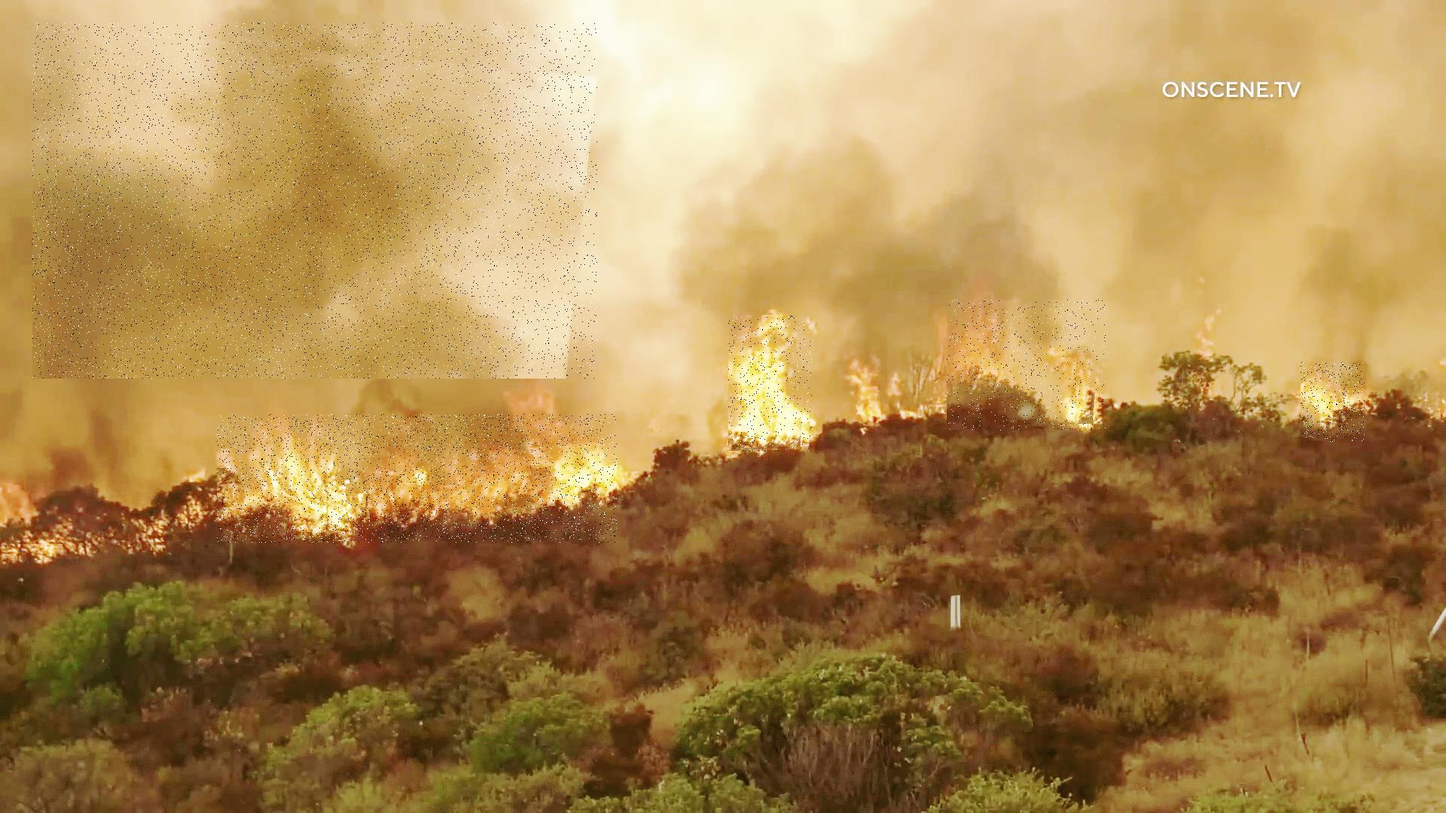fire: (217, 415, 617, 544), (947, 300, 1106, 431), (729, 315, 813, 452), (1301, 362, 1365, 443)
smoke: (33, 23, 597, 379)
